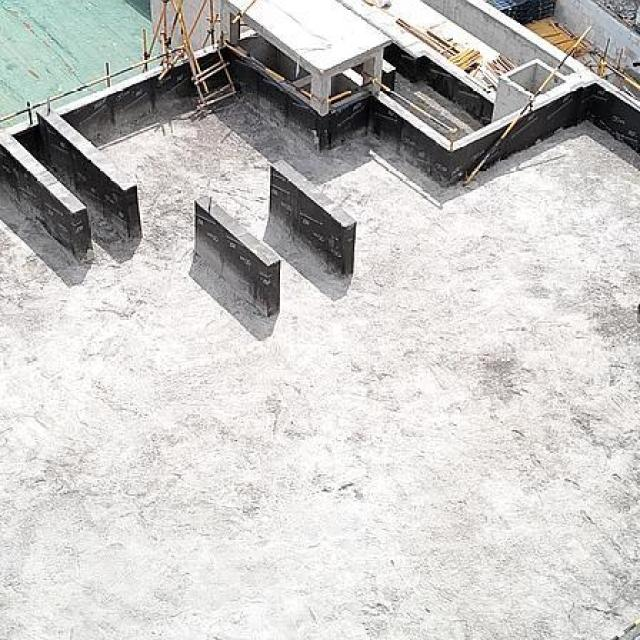edge_guardrail: (462, 25, 594, 188), (0, 45, 184, 126), (326, 69, 458, 142), (225, 42, 312, 101), (600, 58, 640, 92)
